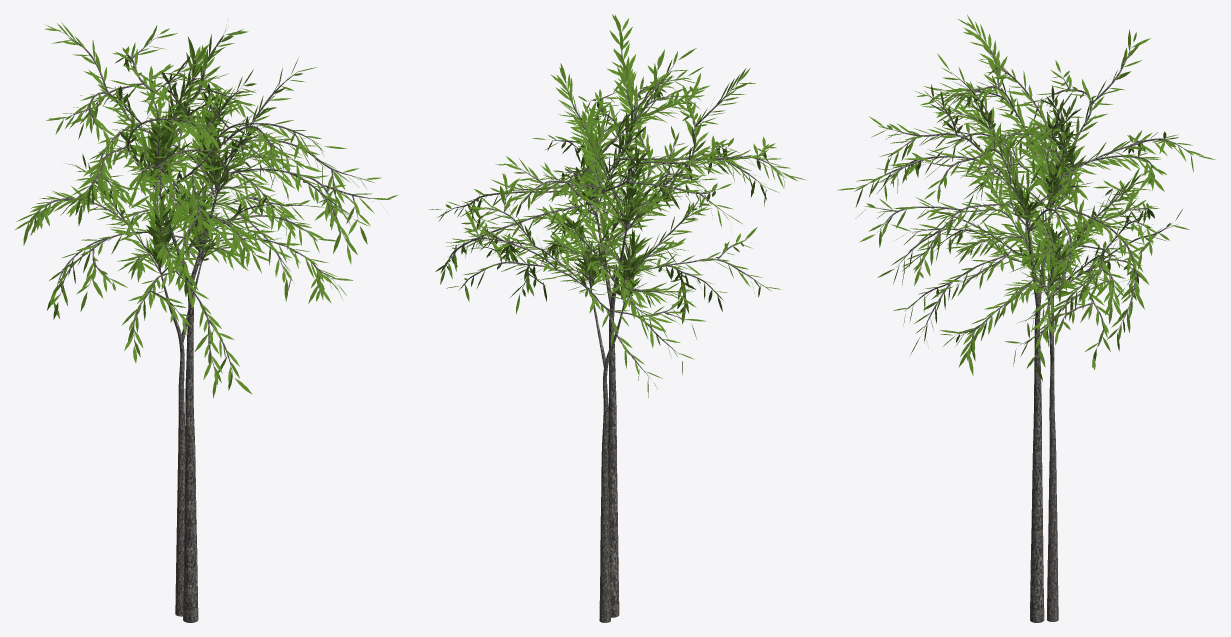
The model's file is arvore1.glb.
The picture shows the model from 3 angles, left to right: view 1: azimuth 30°, elevation 25°; view 2: azimuth 150°, elevation 25°; view 3: azimuth 270°, elevation 25°; orthographic projection. The views are drawn at different scales.
Visible parts, largest first — view 1: leaves.002, tree.001, tree.003; view 2: leaves.002, tree.001, tree.003; view 3: leaves.002, tree.001, tree.003.
Part boxes in pixels (x1,y1,x2,y2): leaves.002: (15, 22, 397, 398); tree.001: (32, 33, 372, 622); tree.003: (158, 267, 185, 616); leaves.002: (429, 14, 806, 397); tree.001: (446, 52, 780, 617); tree.003: (599, 298, 625, 622); leaves.002: (837, 15, 1215, 381); tree.001: (870, 29, 1192, 622); tree.003: (1047, 281, 1058, 621).
Bounding box in the file's own units: 5.06 × 7.95 × 4.87.
2 materials, 2 textured.
